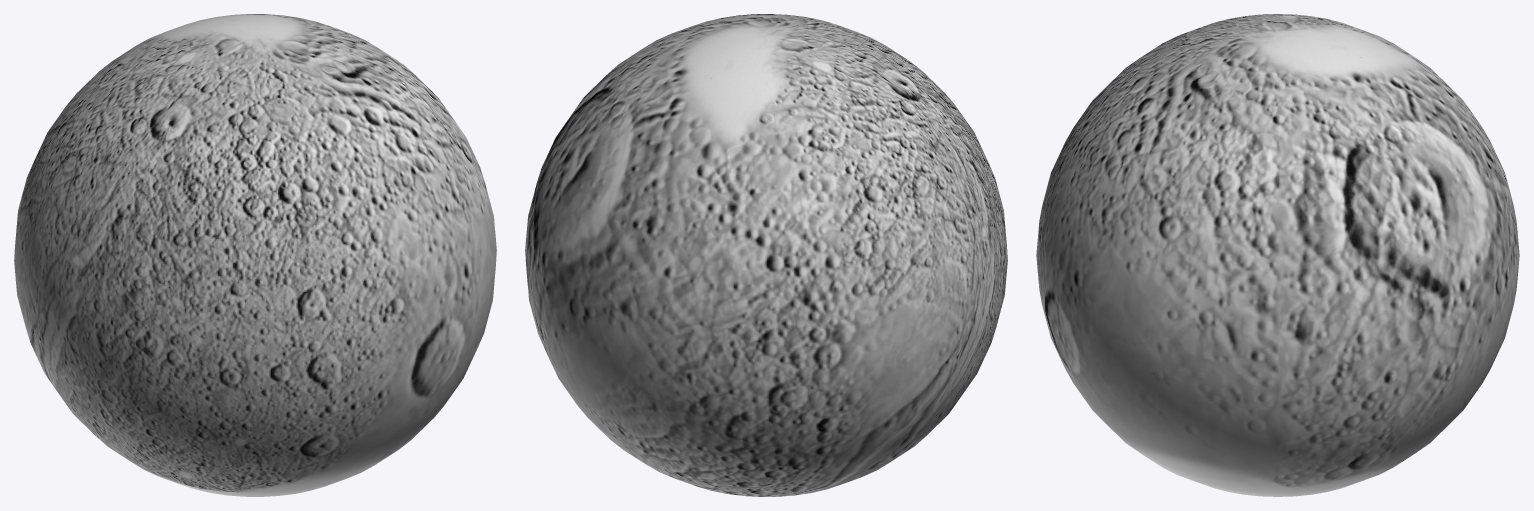
Rendered from tethys.glb.
3 renders of one model, left to right at view 1: azimuth 30°, elevation 25°; view 2: azimuth 150°, elevation 25°; view 3: azimuth 270°, elevation 25°, orthographic.
Bounding box in the file's own units: 2 × 2 × 2.
Materials: 1 (1 with a texture image).
